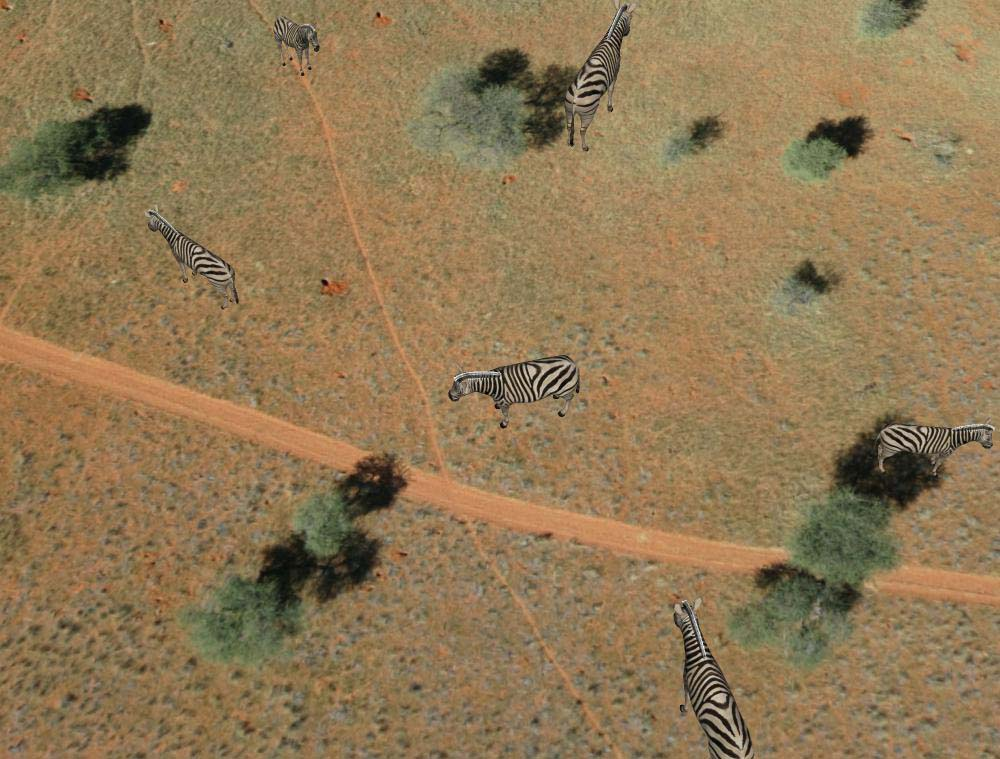zebra: (667, 596, 761, 759), (445, 351, 601, 432), (559, 1, 637, 154), (142, 210, 252, 305), (874, 415, 1000, 481), (269, 12, 331, 78)
